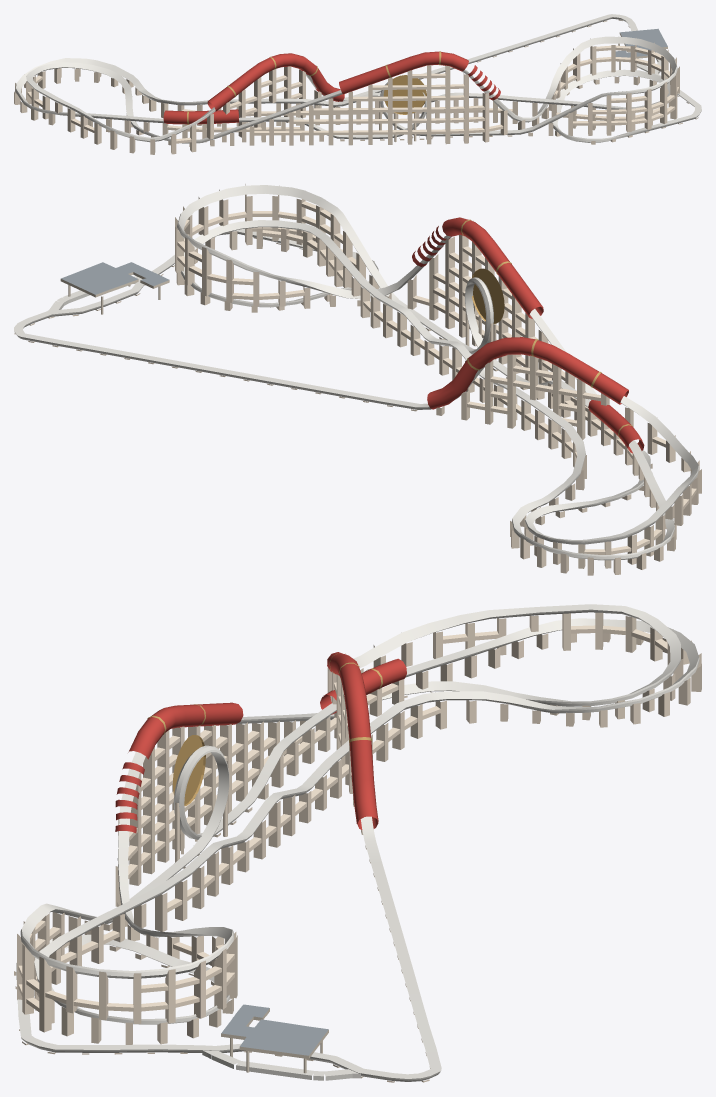
The model's file is detail.glb.
The picture shows the model from 3 angles, top to bottom: view 1: azimuth 30°, elevation 25°; view 2: azimuth 150°, elevation 25°; view 3: azimuth 270°, elevation 25°; orthographic projection. The views are drawn at different scales.
Visible parts, largest first — view 1: incredicoaster-disneyland; view 2: incredicoaster-disneyland; view 3: incredicoaster-disneyland.
Boxes of the visible parts, <box> form: incredicoaster-disneyland: <box>14,14,701,154</box>; incredicoaster-disneyland: <box>14,184,701,575</box>; incredicoaster-disneyland: <box>14,604,701,1082</box>.
Bounding box in the file's own units: 257 × 40.56 × 168.
